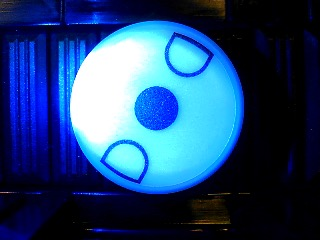BOHOMIPO2: (69, 20, 245, 194)
